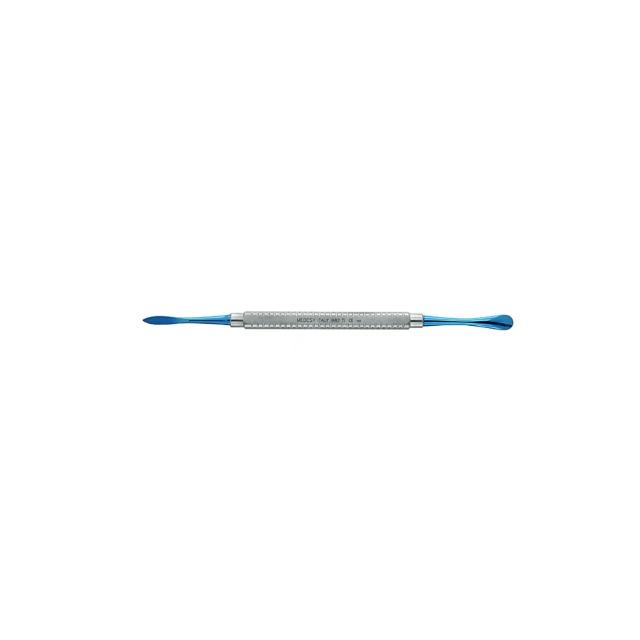elevador: (142, 307, 516, 334)
